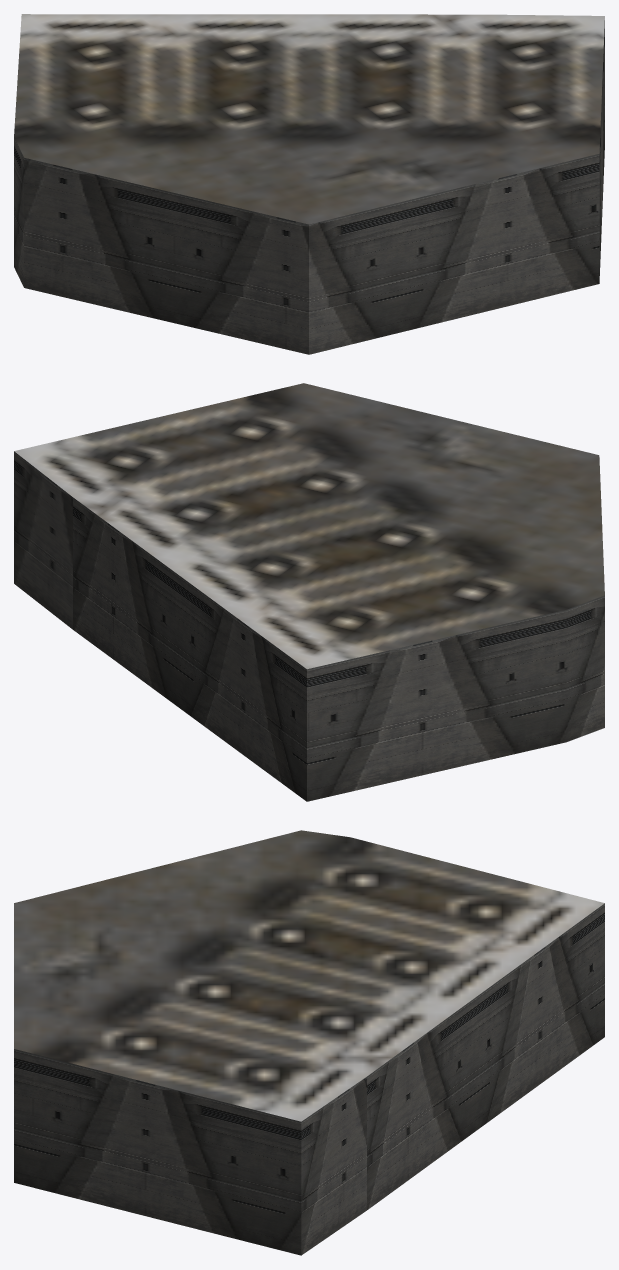
File: fortress_heavy_60.glb
The picture shows the model from 3 angles, top to bottom: view 1: azimuth 30°, elevation 25°; view 2: azimuth 150°, elevation 25°; view 3: azimuth 270°, elevation 25°; orthographic projection. The views are drawn at different scales.
Parts seen in each view (by area): view 1: buildings/saxarba/fortress_heavy/fortress_heavy_60; view 2: buildings/saxarba/fortress_heavy/fortress_heavy_60; view 3: buildings/saxarba/fortress_heavy/fortress_heavy_60.
Part boxes in pixels (<box>): buildings/saxarba/fortress_heavy/fortress_heavy_60: <box>14,14,604,354</box>; buildings/saxarba/fortress_heavy/fortress_heavy_60: <box>14,383,604,801</box>; buildings/saxarba/fortress_heavy/fortress_heavy_60: <box>14,830,604,1255</box>.
Bounding box in the file's own units: 84 × 18 × 72.
